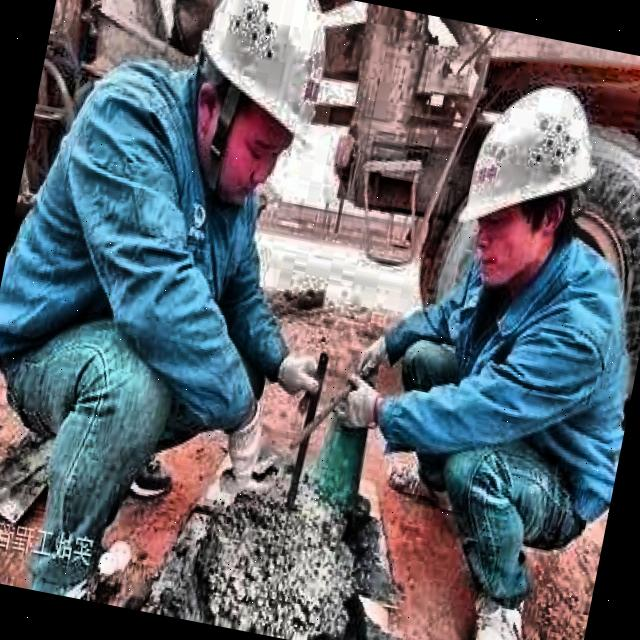helmet: (438, 61, 620, 311), (159, 0, 351, 221)
